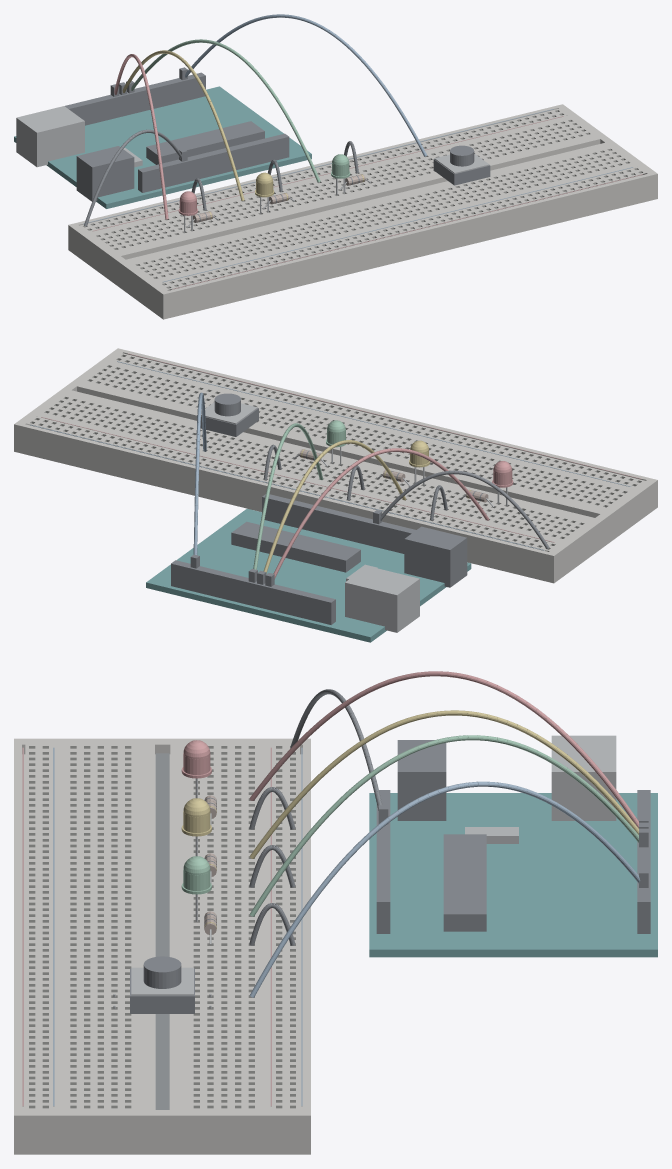
File: step-17.glb
3 views of the same model, one above another, from view 1: azimuth 30°, elevation 25°; view 2: azimuth 150°, elevation 25°; view 3: azimuth 270°, elevation 25° (orthographic). The views are drawn at different scales.
Parts seen in each view (by area): view 1: breadboard__mesh, uno__mesh, button__mesh, wire_button_signal__mesh, wire_green_signal__mesh, wire_yellow_signal__mesh, wire_red_signal__mesh, wire_ground__mesh, led_green__mesh, led_yellow__mesh, led_red__mesh; view 2: breadboard__mesh, uno__mesh, button__mesh, wire_red_signal__mesh, wire_yellow_signal__mesh, wire_button_signal__mesh, wire_ground__mesh, wire_green_signal__mesh, led_red__mesh, led_green__mesh, led_yellow__mesh; view 3: breadboard__mesh, uno__mesh, button__mesh, wire_button_signal__mesh, wire_green_signal__mesh, wire_red_signal__mesh, wire_yellow_signal__mesh, wire_ground__mesh, led_green__mesh, led_red__mesh, led_yellow__mesh.
Boxes of the visible parts, x1,y1,x2,y2 form: breadboard__mesh: (68,104,657,319); uno__mesh: (14,72,311,208); button__mesh: (433,145,490,188); wire_button_signal__mesh: (179,14,427,156); wire_green_signal__mesh: (126,39,320,182); wire_yellow_signal__mesh: (119,50,244,200); wire_red_signal__mesh: (110,54,168,219); wire_ground__mesh: (84,129,187,226); led_green__mesh: (331,154,350,195); led_yellow__mesh: (255,172,274,213); led_red__mesh: (178,191,197,232); breadboard__mesh: (14,348,657,583); uno__mesh: (146,494,471,642); button__mesh: (197,393,258,440); wire_red_signal__mesh: (265,448,489,586); wire_yellow_signal__mesh: (257,440,406,584); wire_button_signal__mesh: (190,392,206,568); wire_ground__mesh: (373,470,549,549); wire_green_signal__mesh: (248,423,322,582); led_red__mesh: (492,461,513,505); led_green__mesh: (326,420,346,465); led_yellow__mesh: (409,440,430,485); breadboard__mesh: (14,738,310,1154); uno__mesh: (369,735,657,957); button__mesh: (113,956,211,1013); wire_button_signal__mesh: (249,781,648,997); wire_green_signal__mesh: (249,735,648,916); wire_red_signal__mesh: (249,671,648,828); wire_yellow_signal__mesh: (249,710,648,858); wire_ground__mesh: (290,689,388,824); led_green__mesh: (181,856,211,921); led_red__mesh: (181,740,211,798); led_yellow__mesh: (181,798,211,856).
Size of the model in its own units: 0.165 by 0.0418 by 0.1192.
